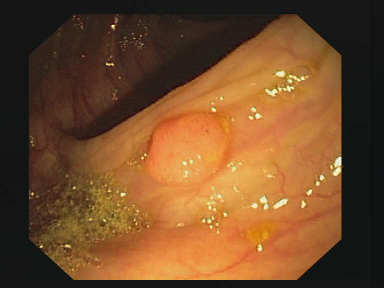polyp: (137, 96, 253, 199)
